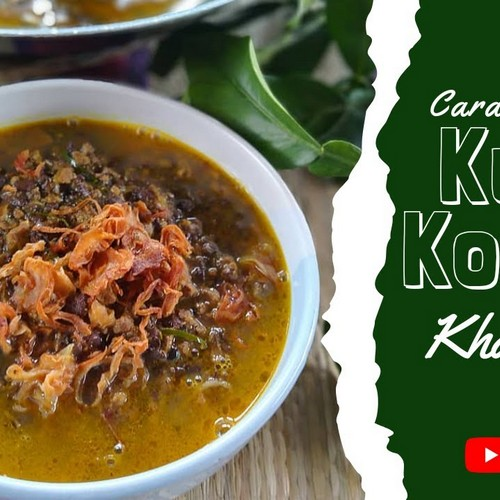komoh: (13, 121, 255, 471)
